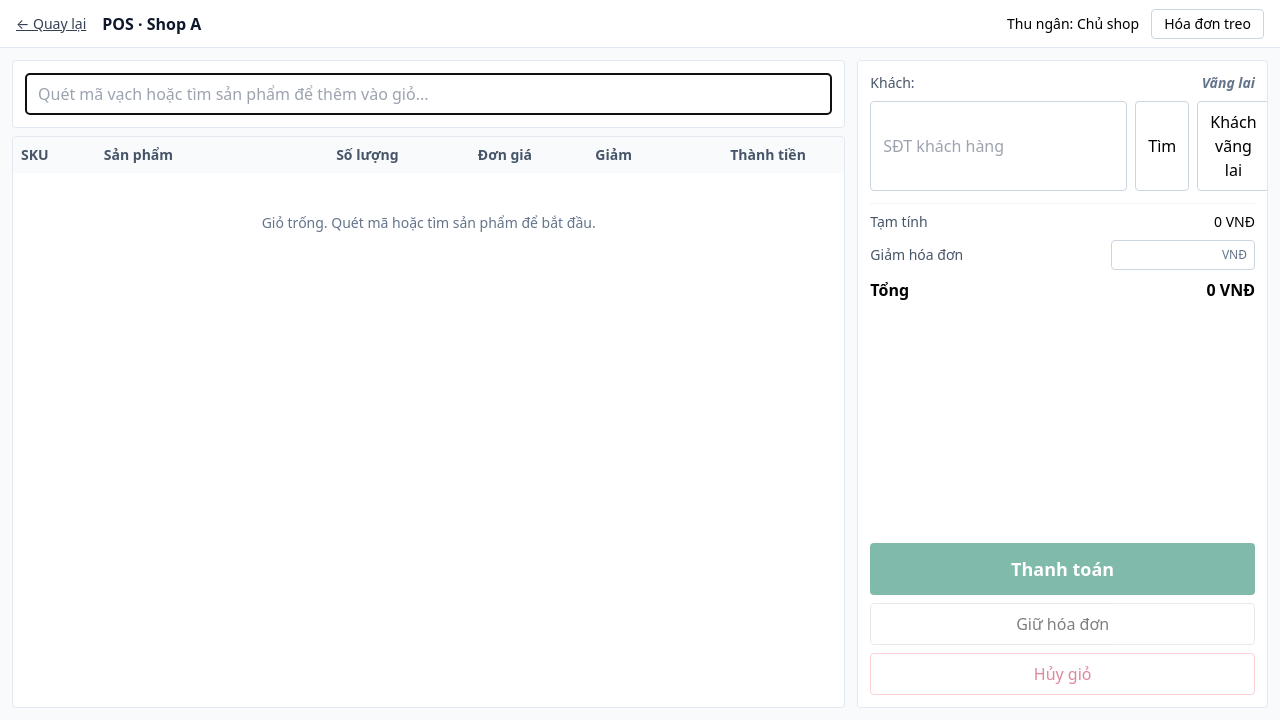
Test: POSScreen › adds product via ProductPicker barcode
The width and height of the screenshot is (1280, 720).
Step 1. Type "8934567890123" into the field named "Tìm sản phẩm hoặc quét mã vạch" → (429, 94), box [25,73,832,115]
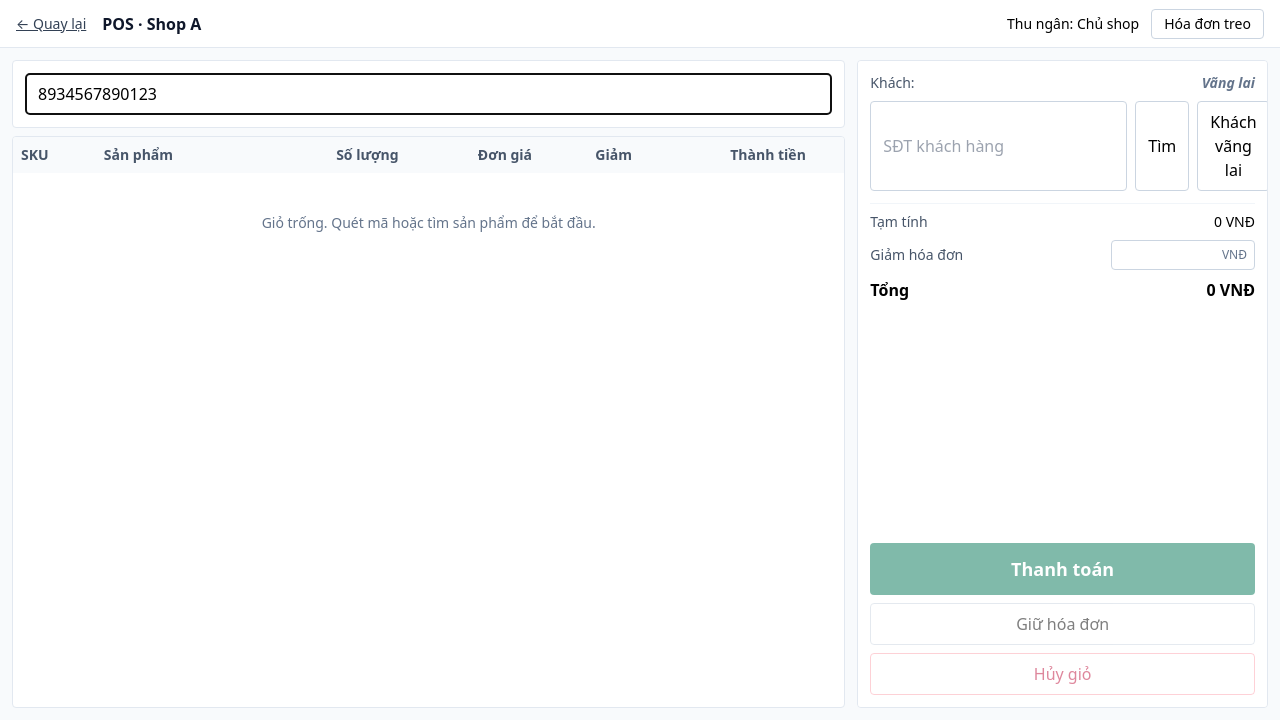
Step 2. Press Enter in the field named "Tìm sản phẩm hoặc quét mã vạch", box [25,73,832,115]
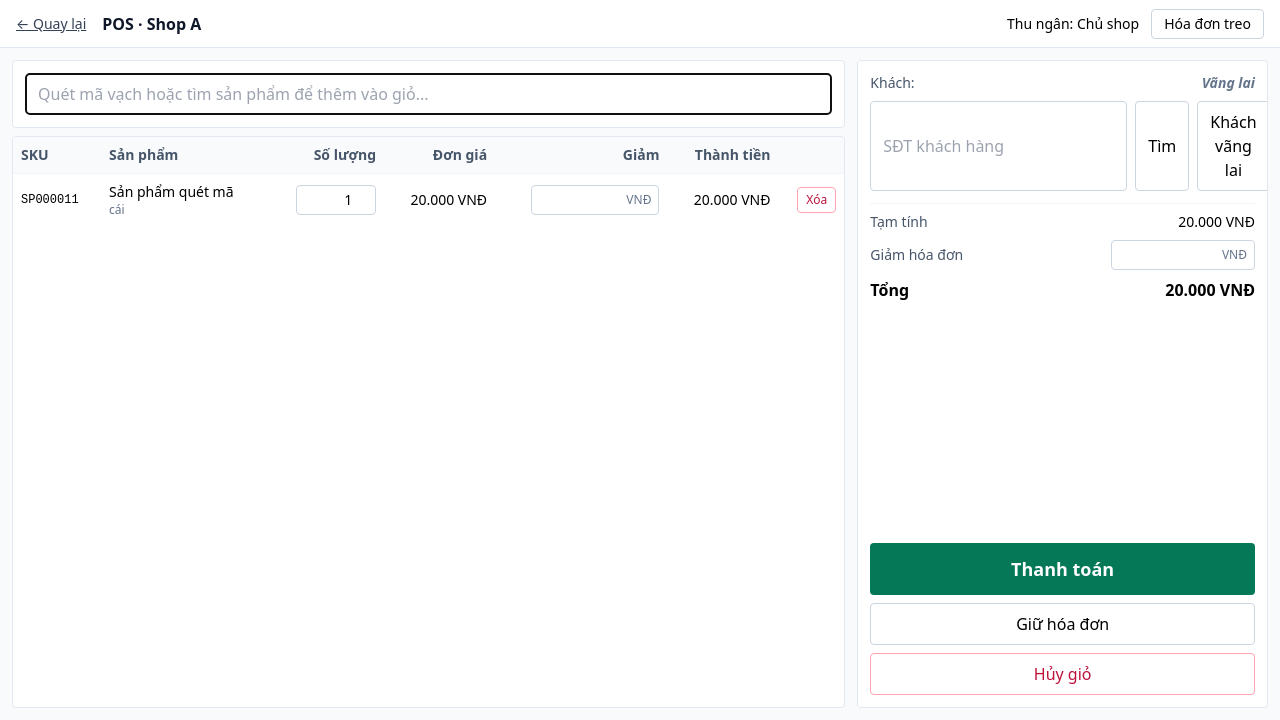
Now the text "Sản phẩm quét mã" is shown, box [109,182,234,201]
